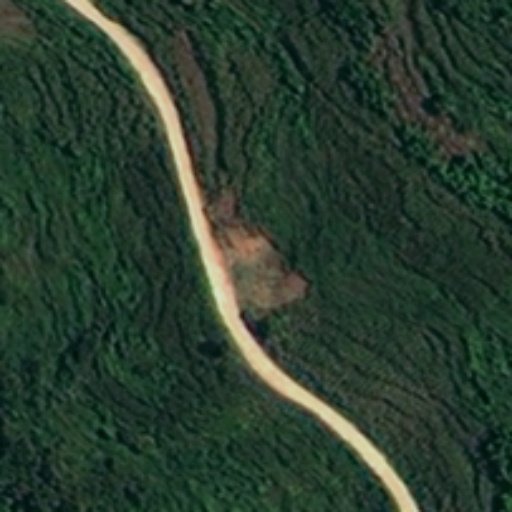landslide: (218, 220, 310, 310)
